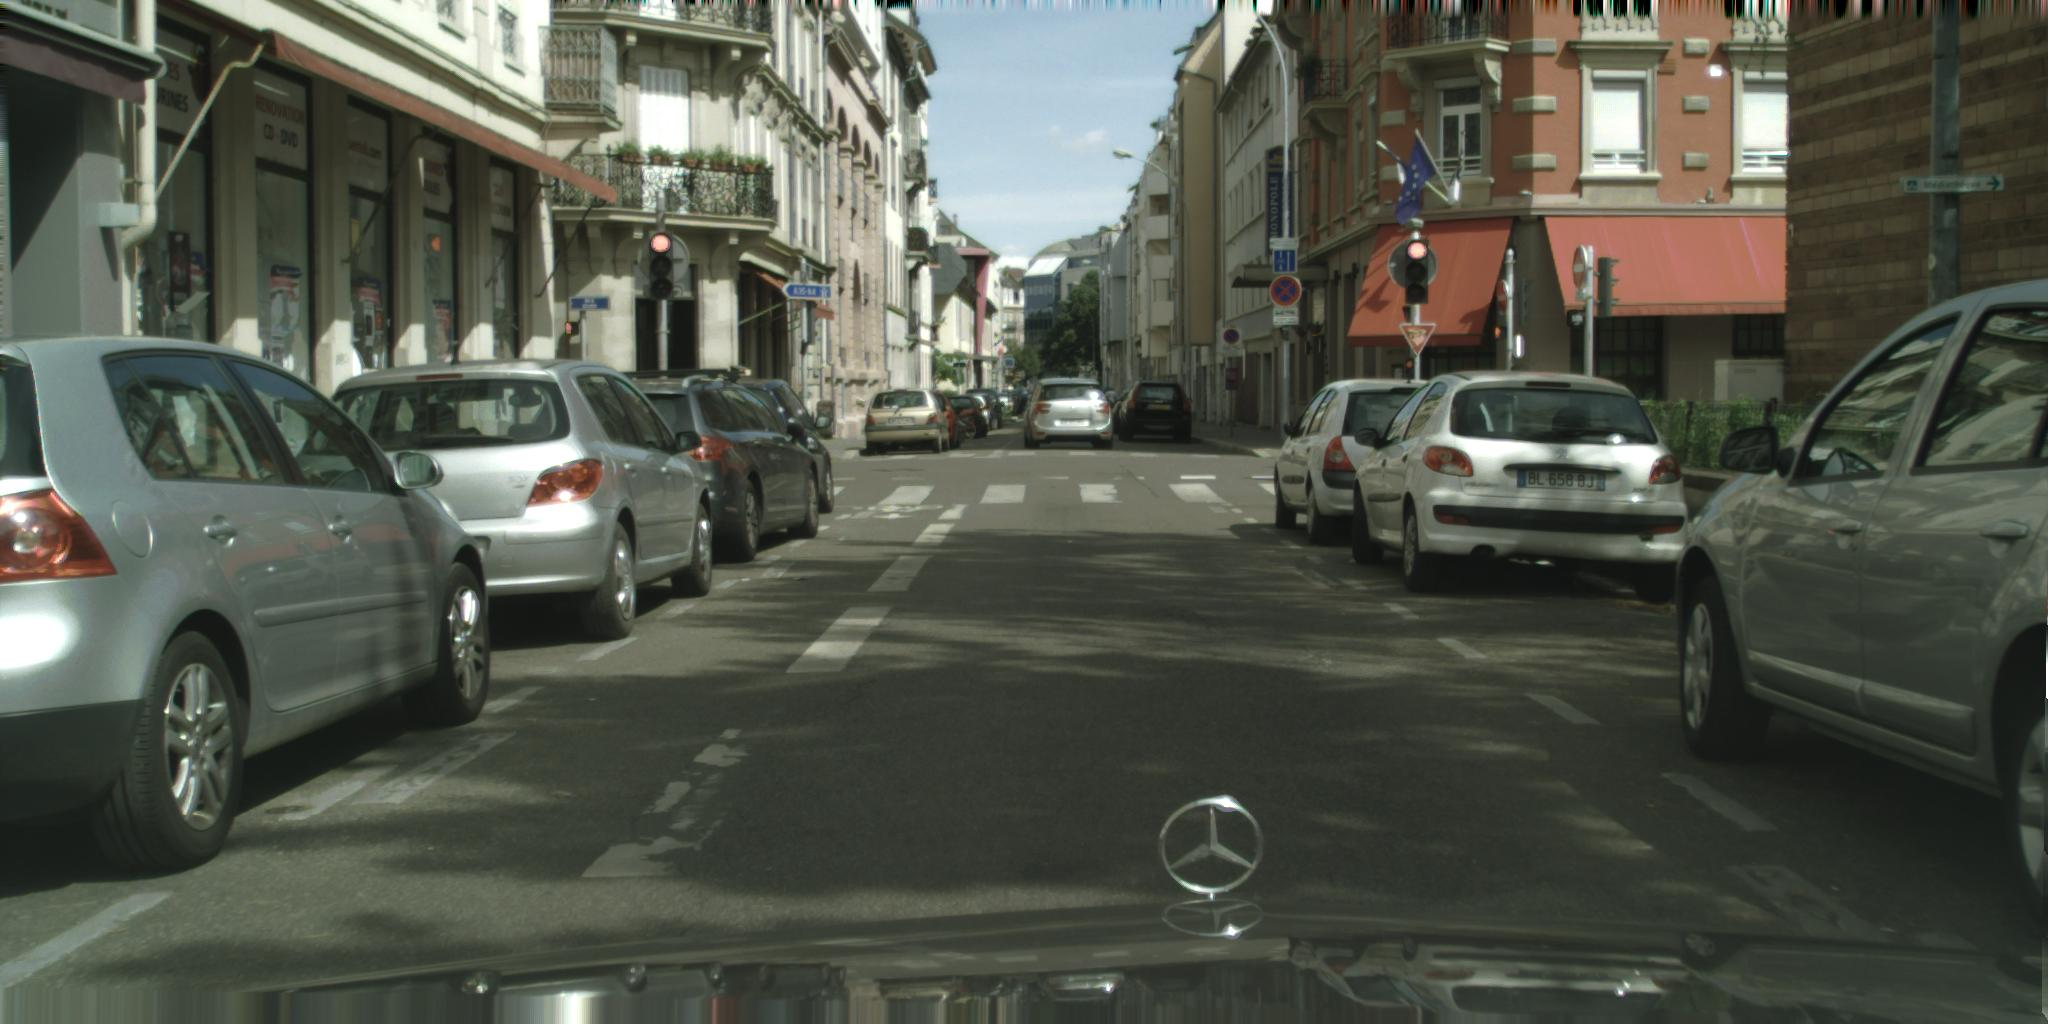car: (1, 334, 491, 875), (1674, 280, 2048, 953), (283, 359, 714, 640), (1353, 370, 1690, 605), (593, 370, 820, 563), (1273, 379, 1439, 549), (703, 379, 835, 515), (1024, 377, 1114, 451), (865, 389, 951, 456), (1118, 379, 1194, 444), (899, 392, 964, 451), (936, 396, 989, 439), (1108, 389, 1151, 436)
